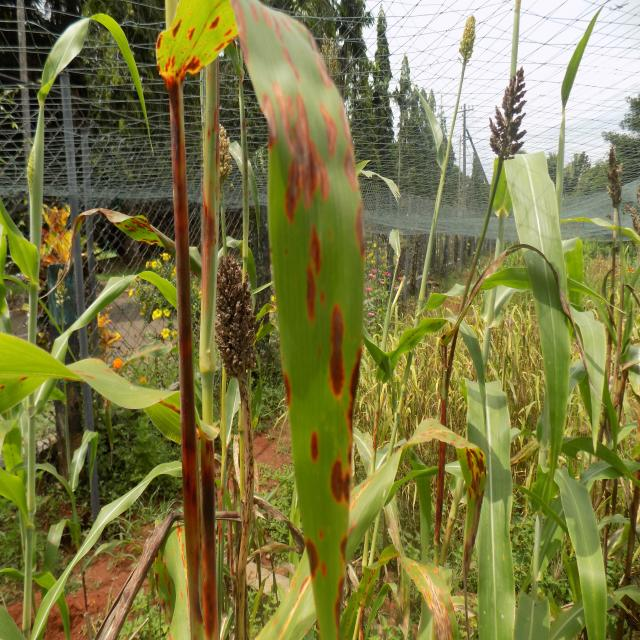Ground nut_healthy: (30, 4, 153, 157)
millet_healthy: (0, 333, 214, 443), (466, 379, 516, 640), (524, 248, 572, 474), (555, 468, 608, 640), (506, 151, 568, 292)
millet_rust: (152, 0, 364, 639), (258, 422, 487, 640)
